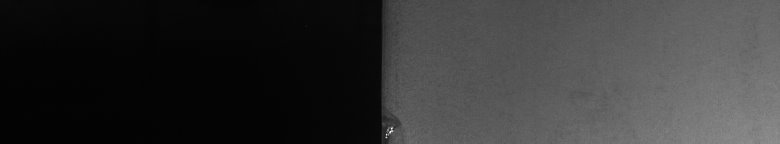hb: (392, 108, 408, 136)
